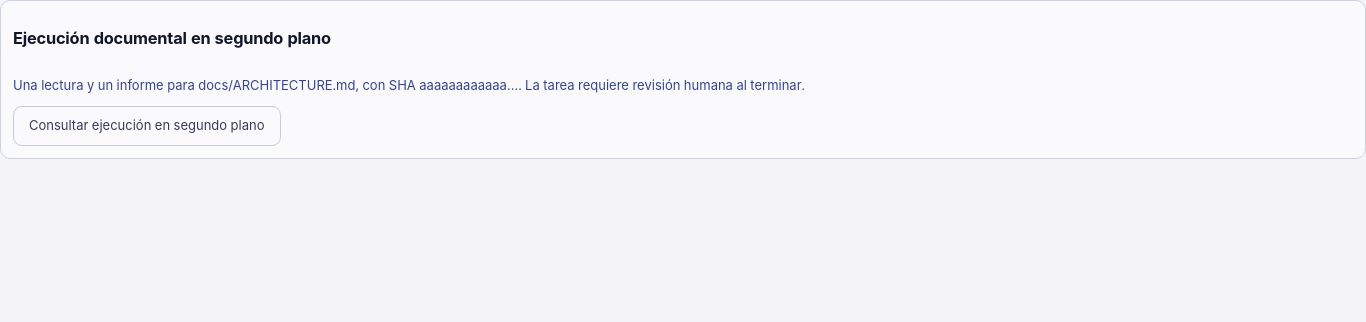
durable document queue › does not retry a queue insertion with an uncertain result
Later steps or results of the test are not shown.
What coordinates should you click on to do the following:
click the button "Consultar ejecución en segundo plano"
I would click on:
 (147, 126)
Its box is [13,106,280,146].
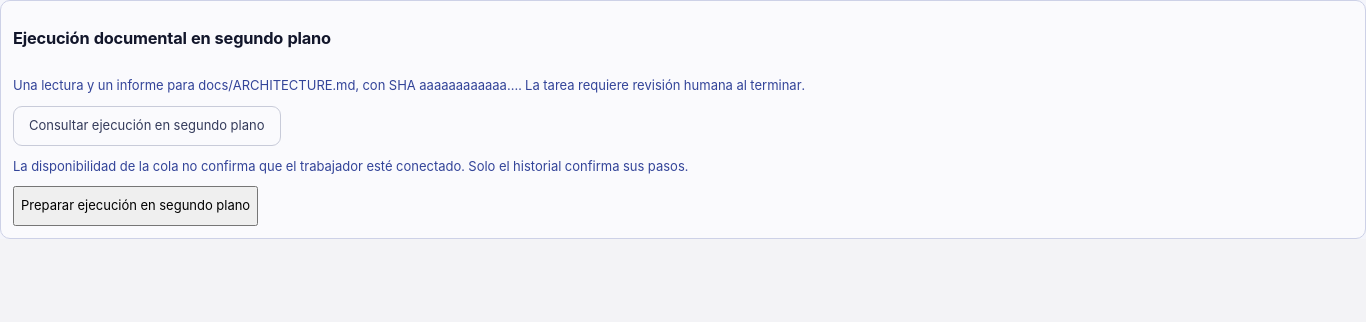
What coordinates should you click on to do the following:
click the button "Preparar ejecución en segundo plano"
I would click on:
 (136, 206)
Its box is [13,186,258,226].
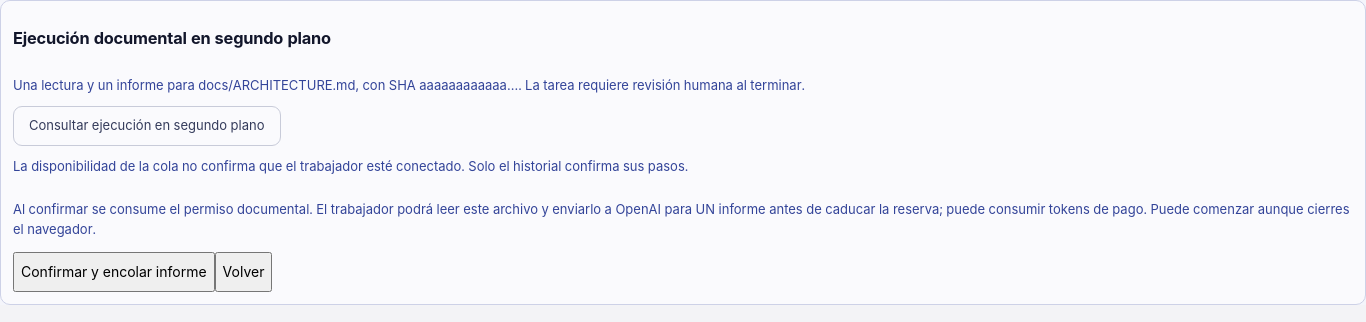
What coordinates should you click on to do the following:
click the button "Confirmar y encolar informe"
I would click on:
 (114, 272)
Its box is [13,252,215,292].
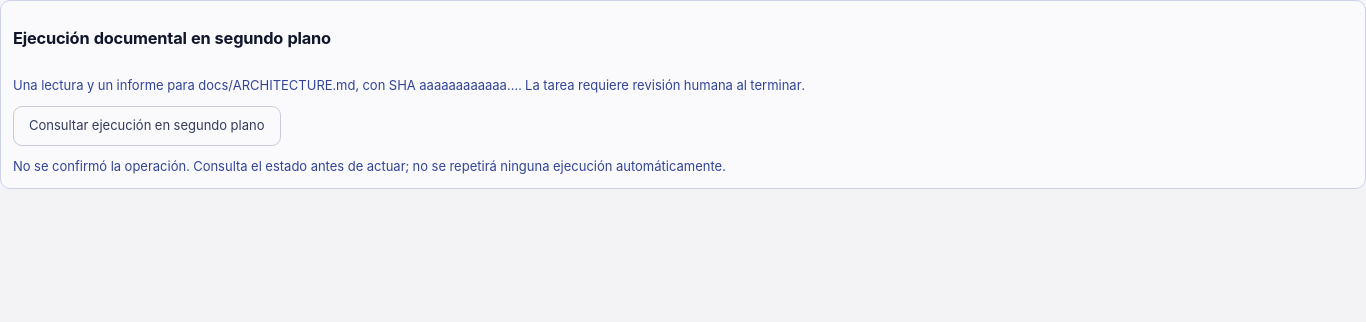
Result: the text "No se confirmó la operación" is shown at [13,158,726,174]
